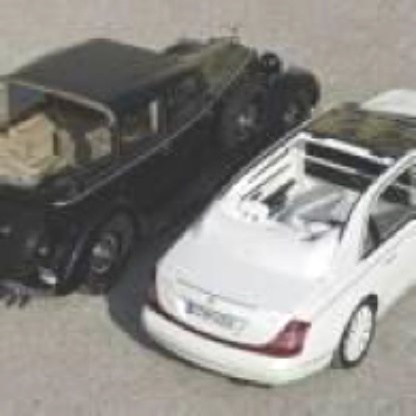Vehicle: (136, 86, 413, 394)
